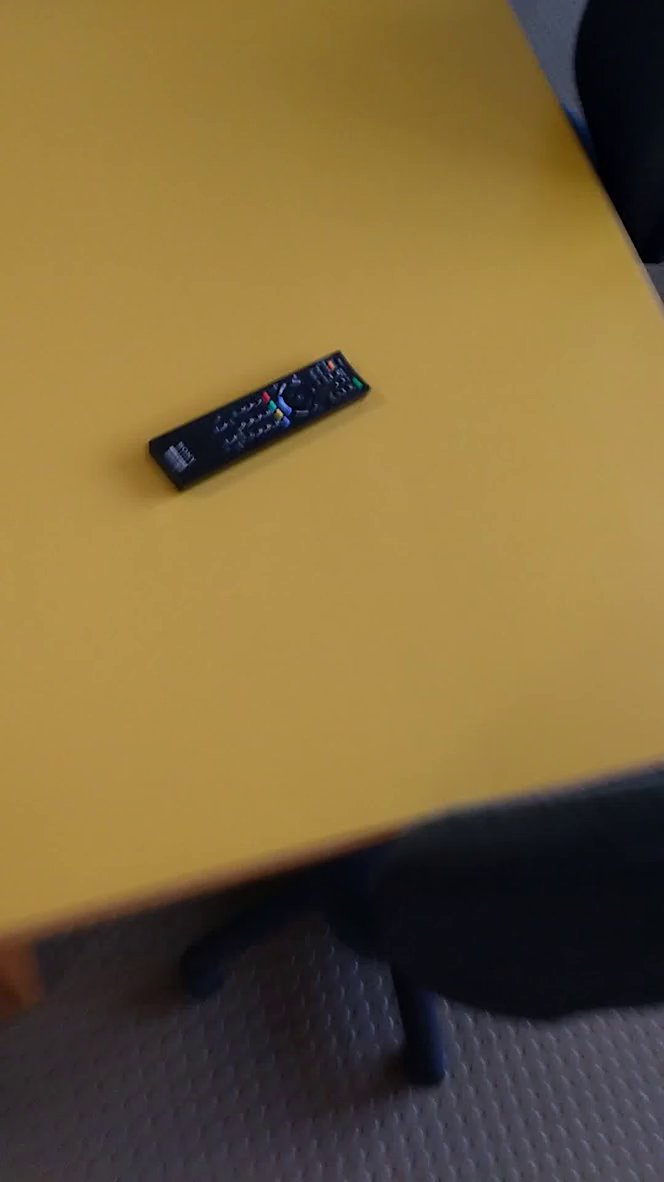remote: (123, 311, 387, 530)
